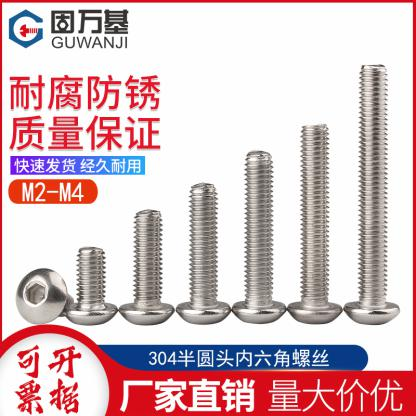FOD: (342, 63, 401, 326), (286, 120, 342, 326), (232, 151, 287, 328), (174, 183, 231, 328), (117, 207, 174, 329), (64, 243, 116, 328), (12, 268, 74, 324)
